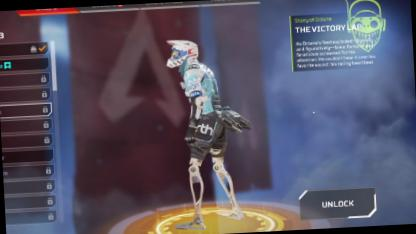Target: (161, 32, 256, 188)
